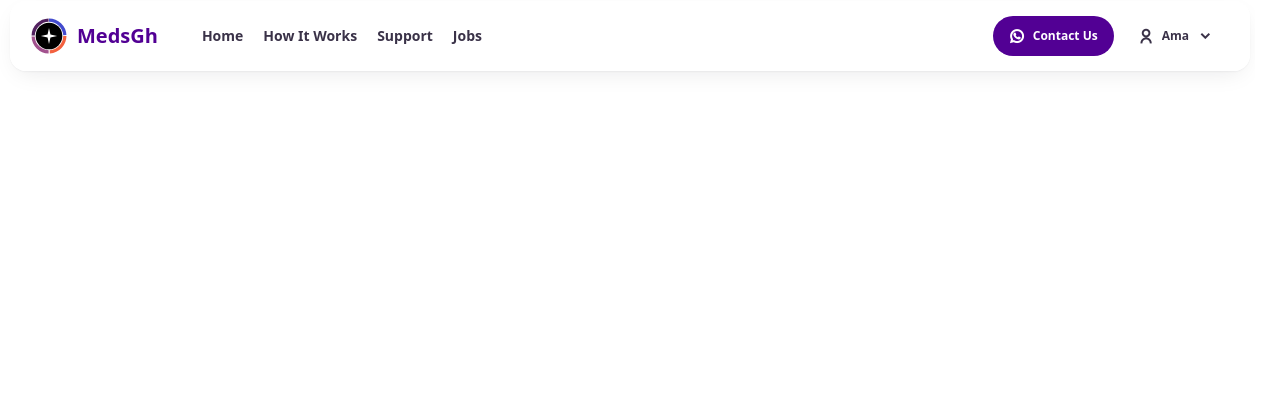
it: Navbar: signed-in customer › lists linked companies only for customers who have more than one
Click the button "Ama" at [1175, 36], box [1122,16,1229,56]
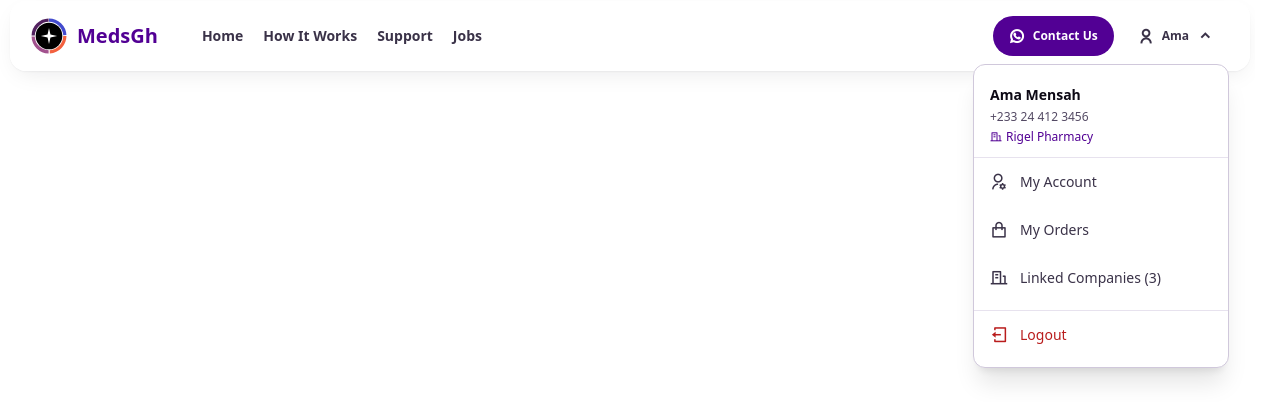
Check: the element that starts with "Ama" shows "Linked Companies (3)", box [974,254,1228,302]
Check: the element that starts with "Ama" shows "Rigel Pharmacy", box [1006,128,1093,145]
